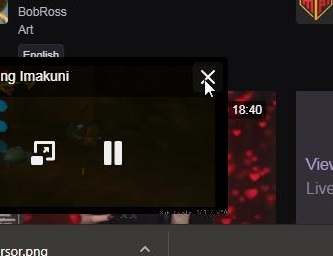cursor: (203, 78, 217, 101)
